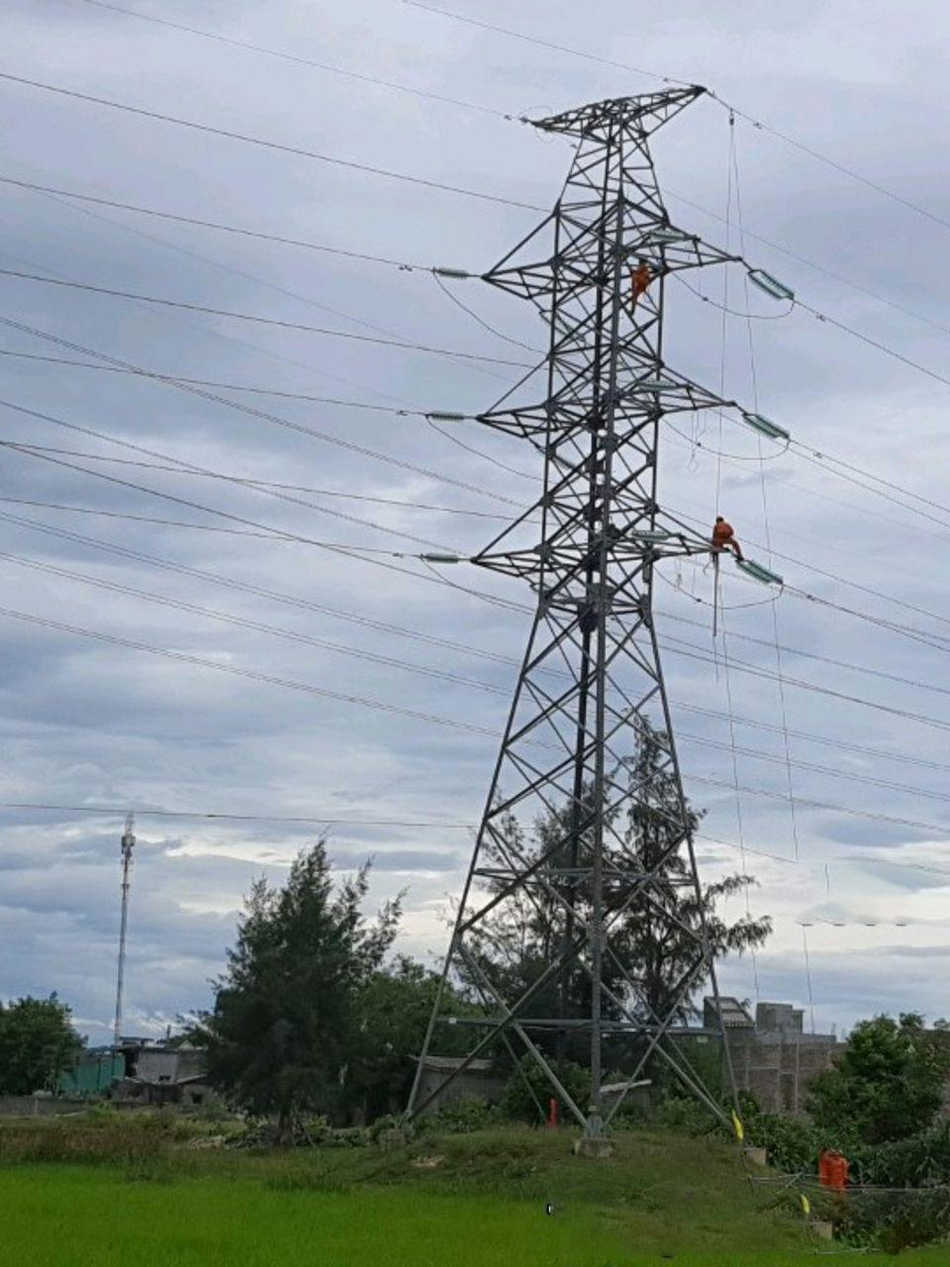tower: (377, 57, 761, 1173)
